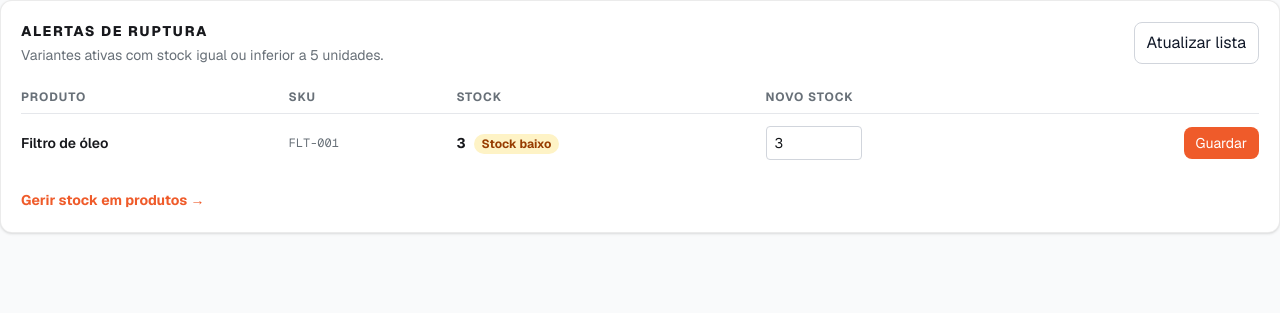
InventoryAlerts › exige o novo stock antes de guardar
The image size is (1280, 313).
Clear the number field named "Novo stock de FLT-001". click: {"x": 814, "y": 143}
box: [766, 126, 862, 160]
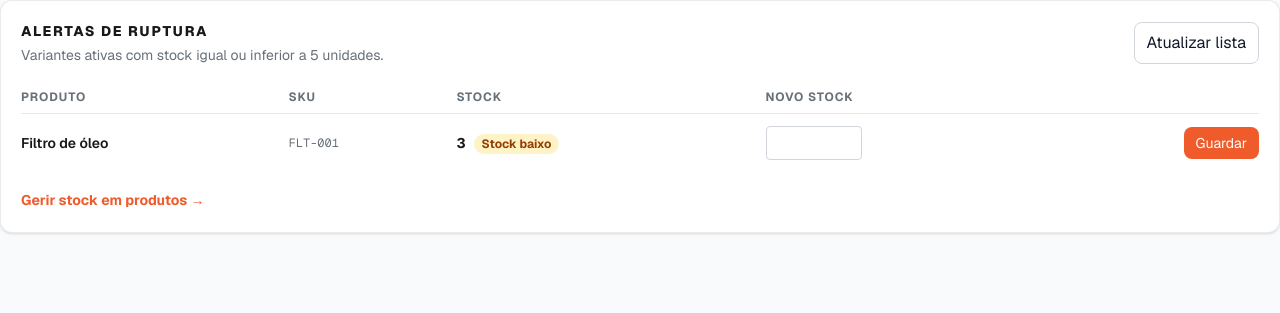
Click the button named "Guardar stock de FLT-001". click: {"x": 1221, "y": 143}
box: [1184, 127, 1259, 159]
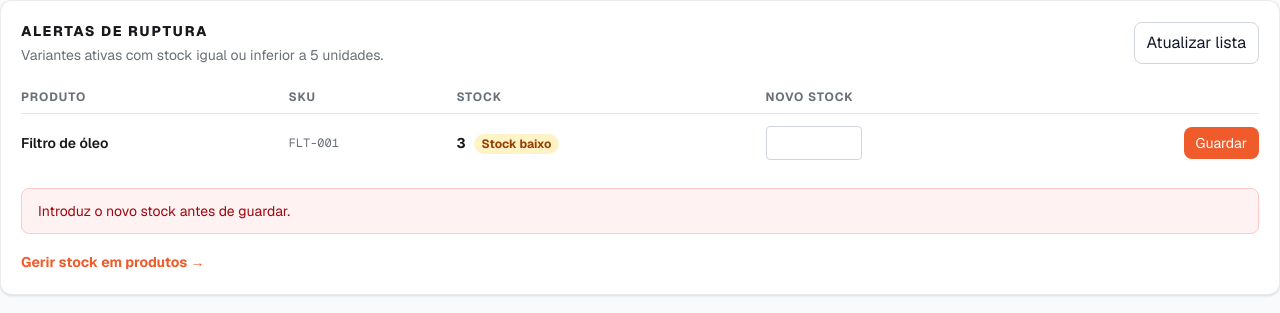
Expected: the text "Introduz o novo stock antes de guardar." is shown, [21, 188, 1259, 234]
